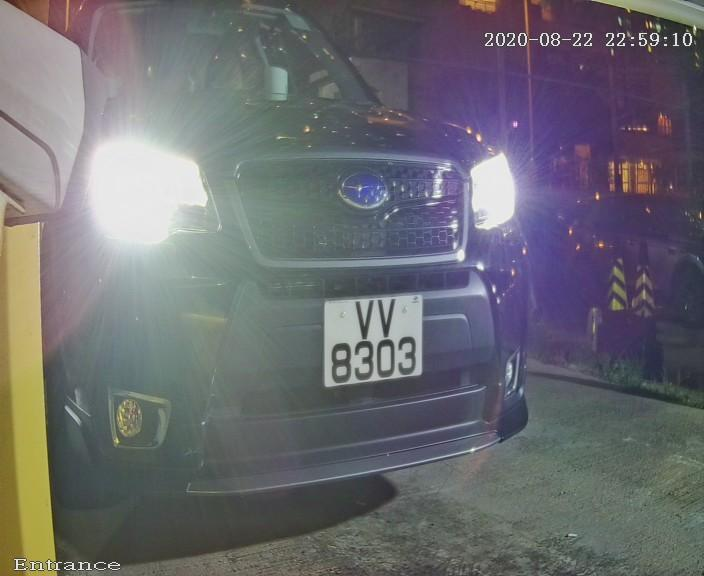Car: (16, 1, 610, 543)
License Plate: (312, 278, 431, 402)
